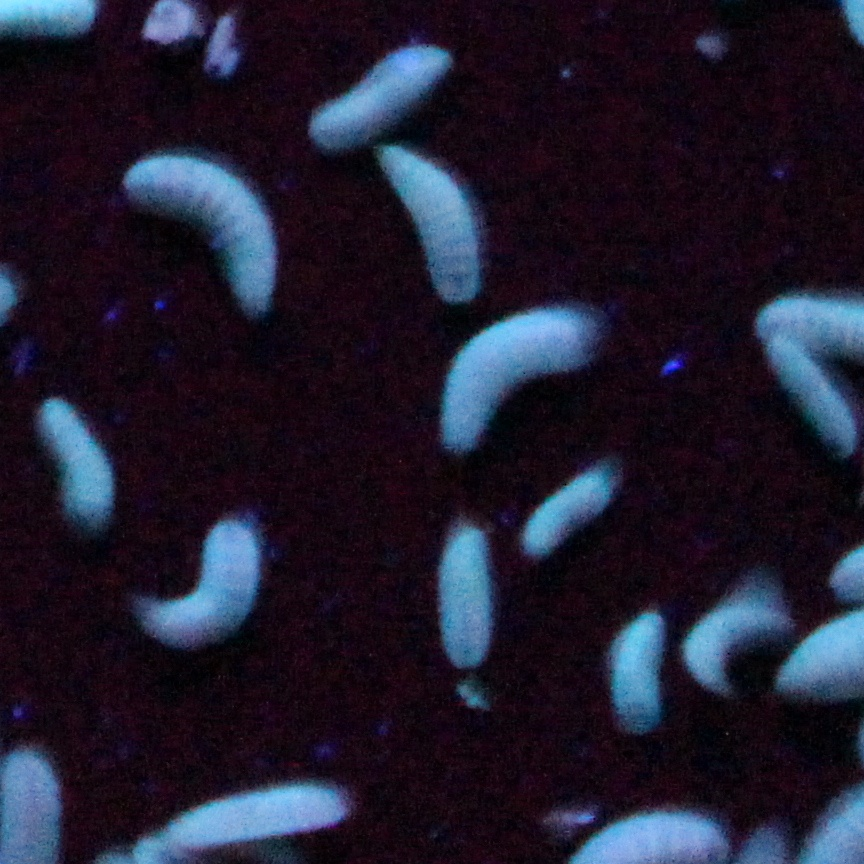larve: (121, 158, 274, 314), (445, 311, 588, 454), (376, 144, 477, 302), (143, 520, 257, 647), (312, 47, 450, 146), (172, 783, 348, 851), (681, 608, 794, 700), (769, 336, 854, 450), (39, 396, 111, 519), (440, 522, 493, 667), (523, 469, 608, 555), (613, 610, 663, 729)
